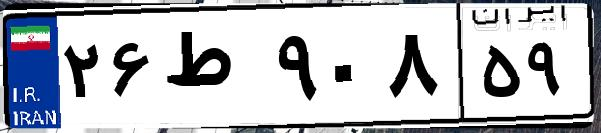0: (330, 28, 385, 110)
2: (57, 26, 110, 100)
5: (475, 38, 525, 113)
6: (110, 28, 158, 98)
8: (385, 28, 445, 110)
9: (270, 28, 330, 110), (525, 38, 570, 115)
ط: (158, 20, 270, 120)
